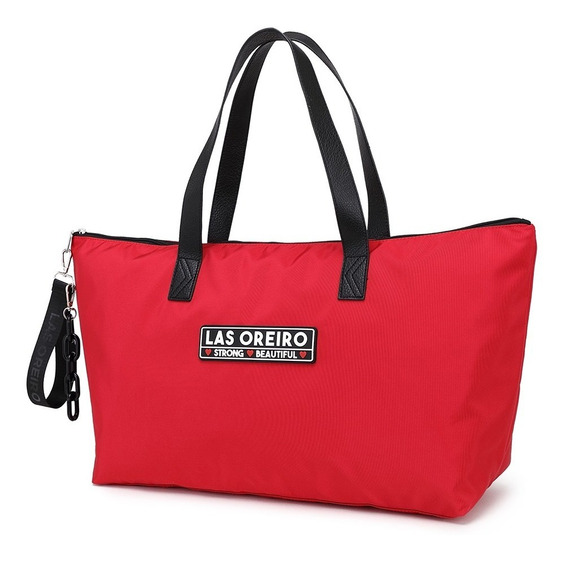cartera: (70, 26, 538, 522)
